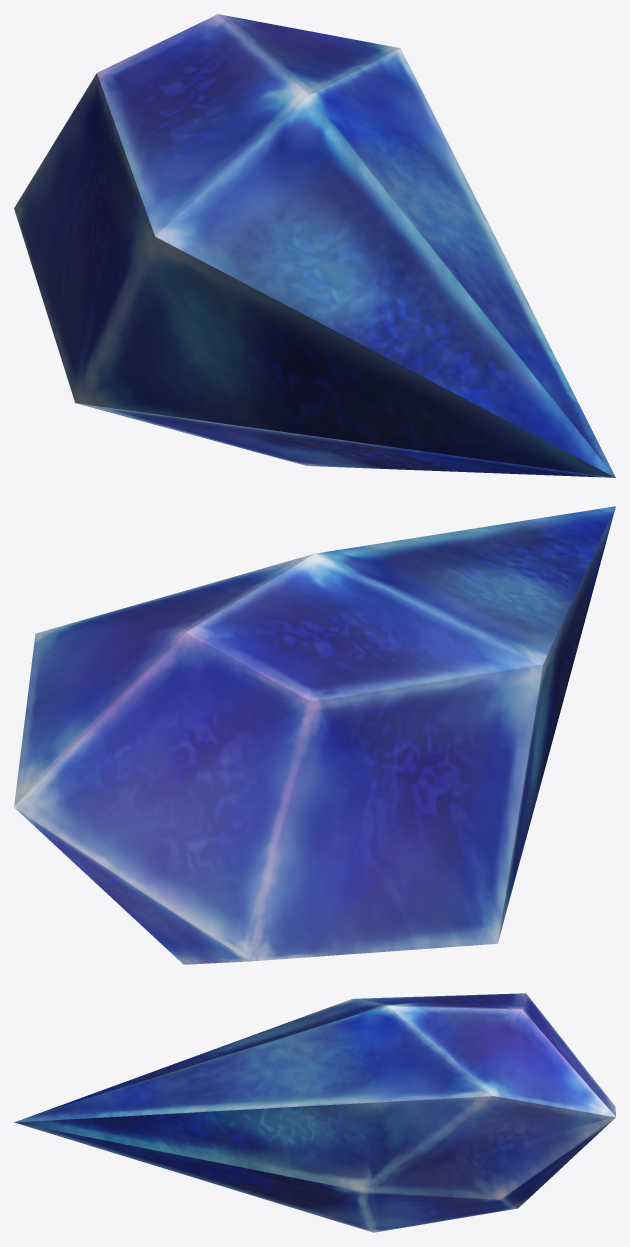
File: Crystal_4.fbx
3 renders of one model, top to bottom at view 1: azimuth 30°, elevation 25°; view 2: azimuth 150°, elevation 25°; view 3: azimuth 270°, elevation 25°, orthographic. The views are drawn at different scales.
Visible parts, largest first — view 1: Crystal; view 2: Crystal; view 3: Crystal.
Part boxes in pixels (x1,y1,x2,y2): Crystal: (14,14,615,477); Crystal: (14,506,615,964); Crystal: (14,993,615,1232).
Size of the model in its own units: 161 by 149 by 350.
1 material, 1 textured.
